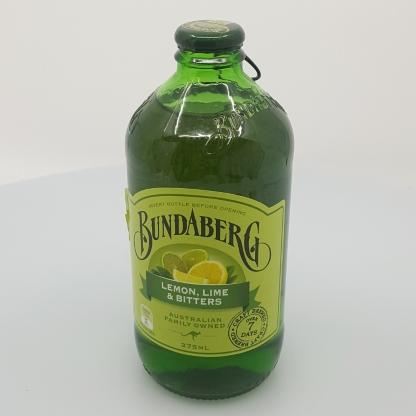------------375ML: (124, 19, 294, 401)
